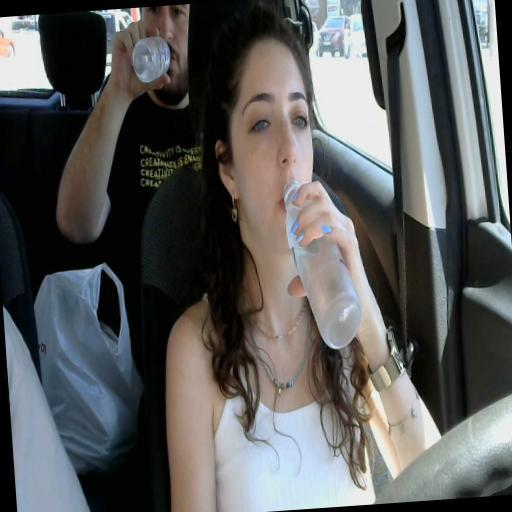Drinking: (218, 40, 373, 351), (125, 6, 188, 101)
